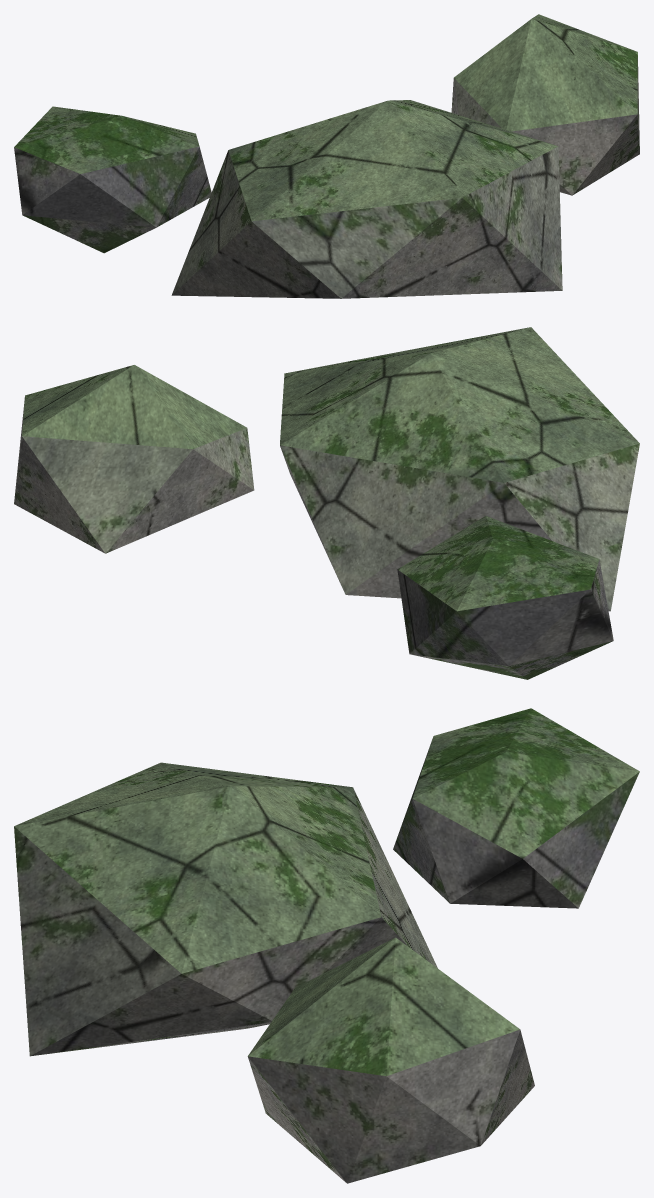
The model's file is rock_mossy_b.glb.
The picture shows the model from 3 angles, top to bottom: view 1: azimuth 30°, elevation 25°; view 2: azimuth 150°, elevation 25°; view 3: azimuth 270°, elevation 25°; orthographic projection. The views are drawn at different scales.
Visible parts, largest first — view 1: rock_mossy_b; view 2: rock_mossy_b; view 3: rock_mossy_b.
Boxes of the visible parts, x1,y1,x2,y2 form: rock_mossy_b: (14,14,639,298); rock_mossy_b: (14,327,639,679); rock_mossy_b: (14,708,639,1183).
Size of the model in its own units: 1.05 by 0.331 by 0.7567.
Materials: 1 (1 with a texture image).
